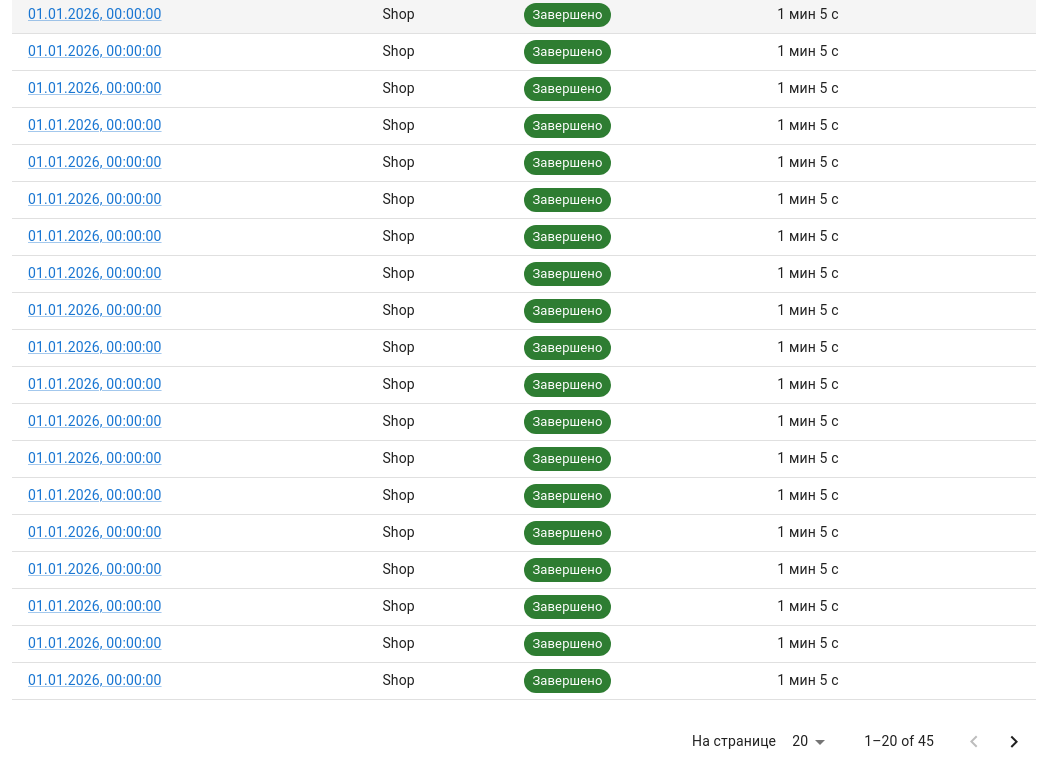
Scenario: ScansPage › changes page in the URL and in the request
(page scrolled)
Click the button named "Go to next page": (1014, 742) [994,722,1034,762]
(page scrolled)
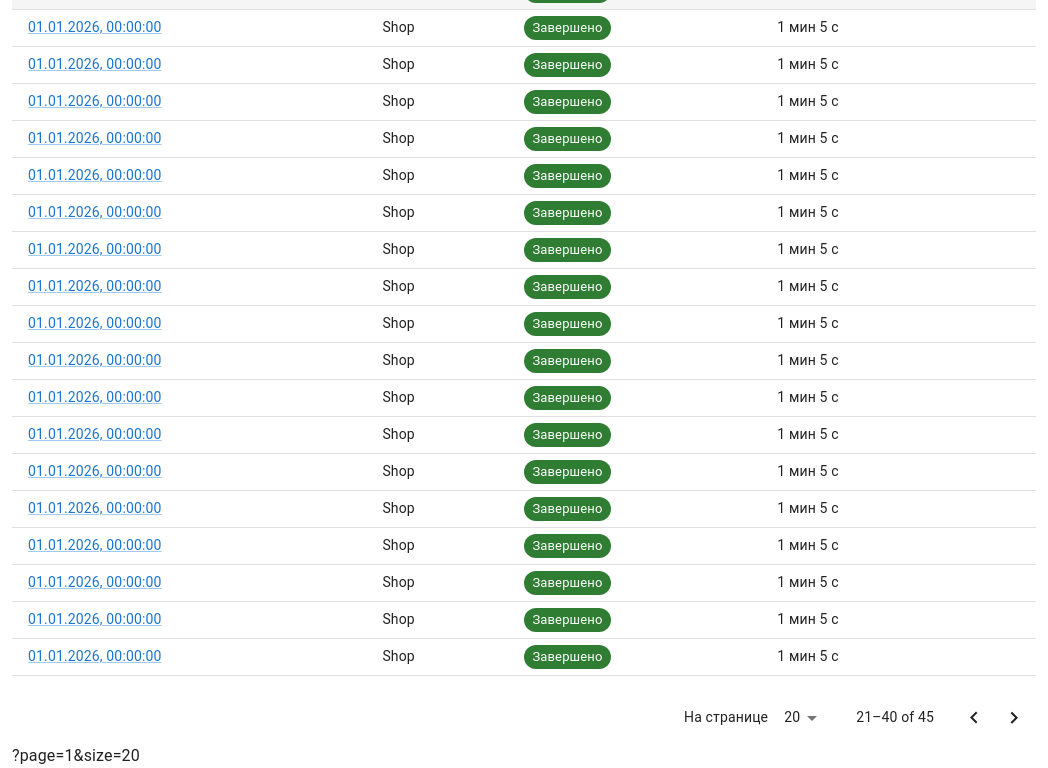
Now the text "21–40 of 45" is shown, box [856,708,934,728]
Now the text with test id "search" shows "page=1", box [12,746,140,764]
